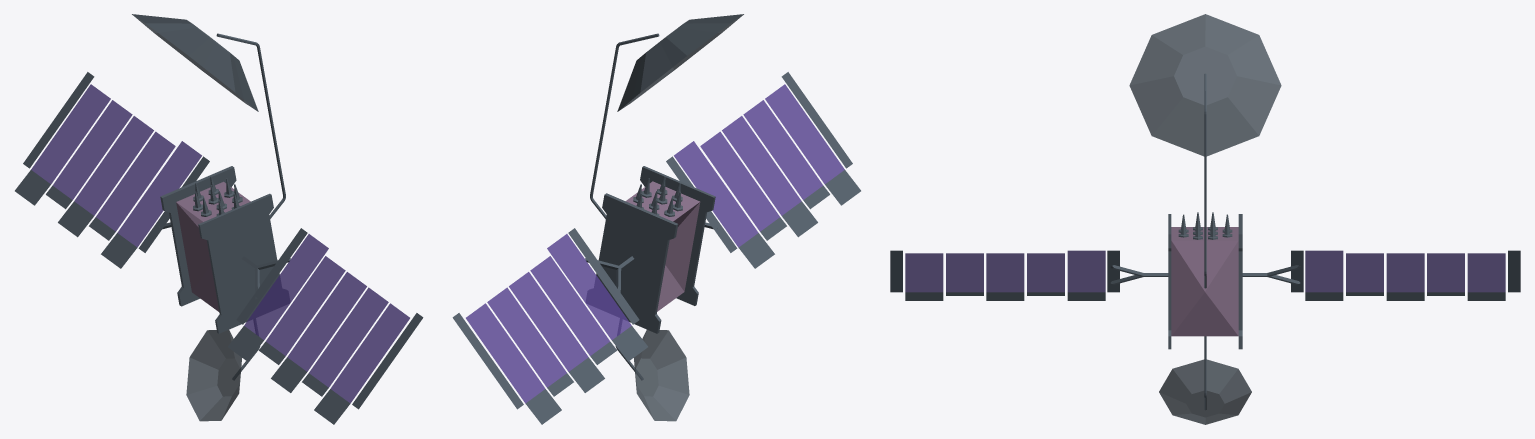
Rendered from Sat-US-MUOS.glb.
3 views of the same model, side by side, from view 1: azimuth 30°, elevation 25°; view 2: azimuth 150°, elevation 25°; view 3: azimuth 270°, elevation 25° (orthographic). The views are drawn at different scales.
Bounding box in the file's own units: 20.45 × 57.18 × 84.61.
